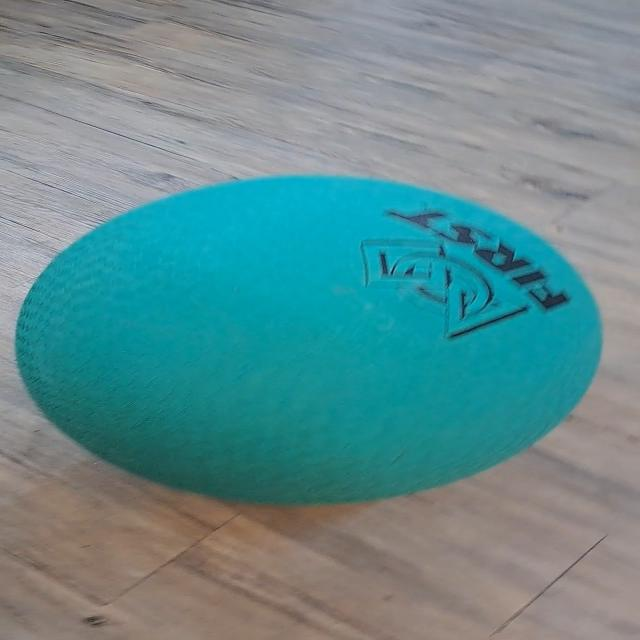ALGAE: (12, 172, 606, 508)
